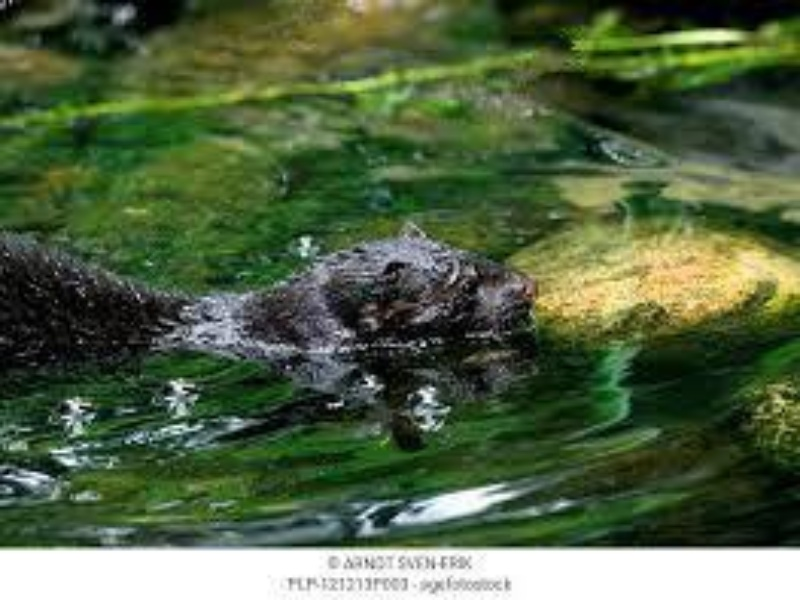minkish: (1, 220, 533, 363)
